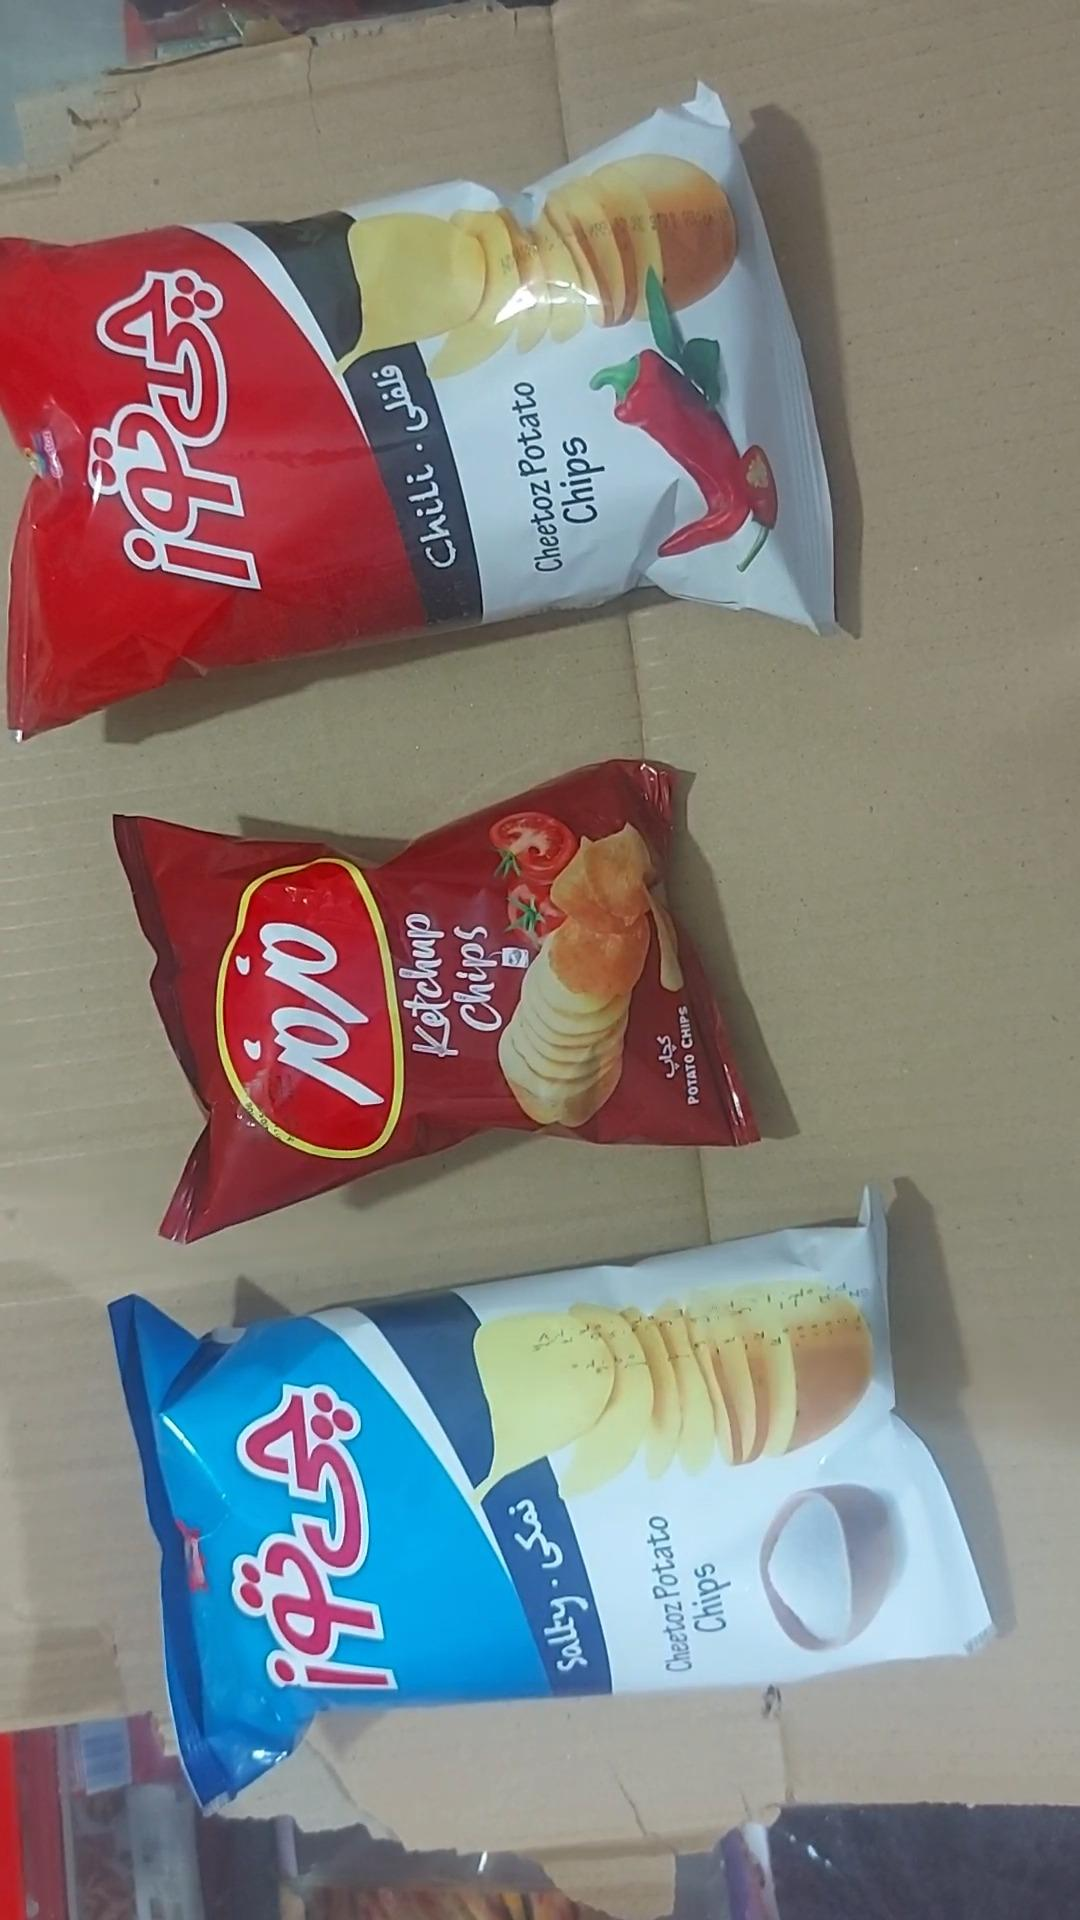Cheetoz chili chips: (0, 83, 840, 744)
Cheetoz salty chips: (105, 1185, 1000, 1815)
Maz Maz ketchup chips: (113, 760, 757, 1246)
